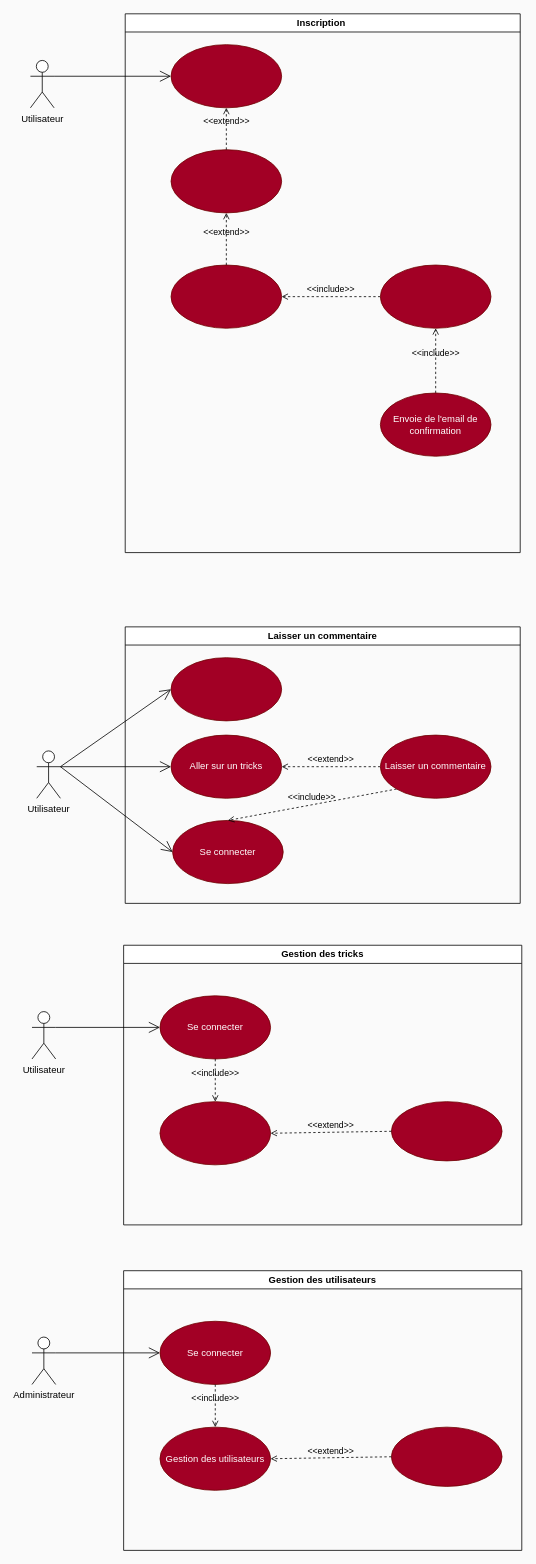
Image size: 536x1564. Some labels were removed from this diagram. The shapes that lost their labels are listed below. From the top down, each one's centre as x and y in pixels, then its label:
[226,76]: Aller sur la page d'inscription
[226,181]: Remplir le formulaire d'inscription
[226,296]: Soummettre le formulaire
[435,296]: Traitement du formulaire
[226,689]: S'inscrire
[215,1133]: Gestion des Blogs
[446,1131]: CRUD des Blogs
[446,1456]: CRUD des utilisateurs
